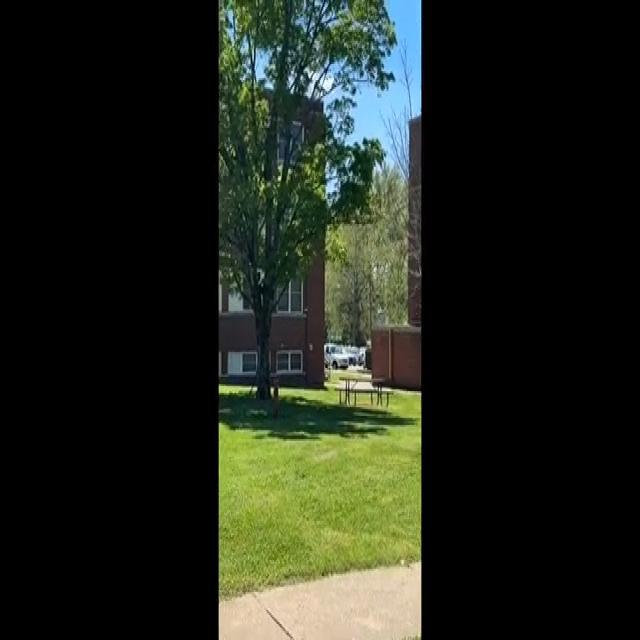drone: (303, 304, 313, 318)
